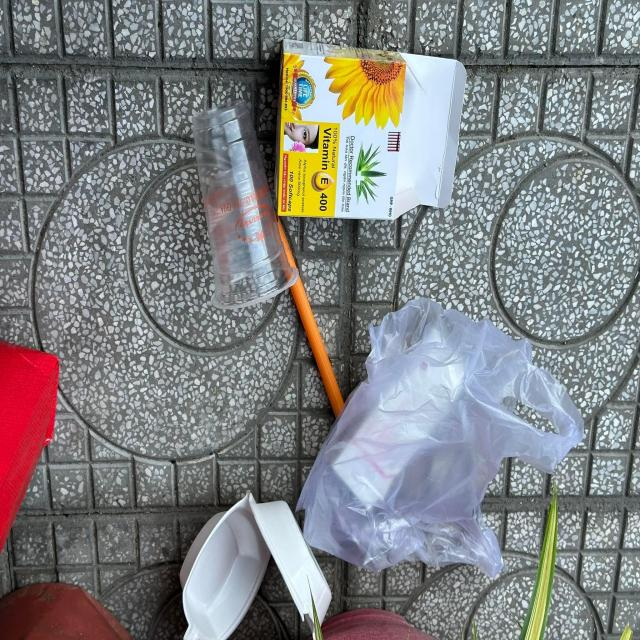bag: (296, 297, 584, 578)
cardboard box: (276, 37, 468, 220)
drinking straw: (274, 214, 346, 416)
foam box: (179, 493, 332, 640)
plastic glass: (193, 98, 299, 311)
